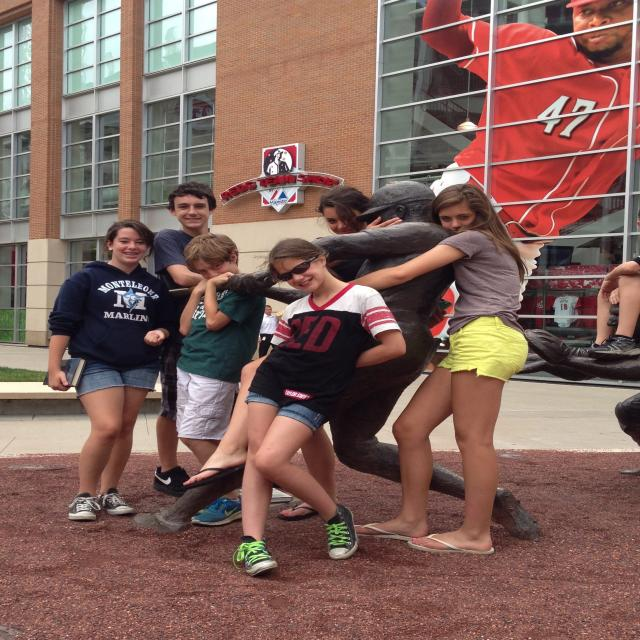body: (128, 178, 546, 546), (177, 185, 407, 524), (342, 184, 530, 555), (227, 235, 410, 578), (390, 0, 640, 178), (42, 218, 186, 526), (546, 177, 640, 482), (175, 233, 267, 526), (151, 181, 216, 498), (258, 305, 280, 359)
